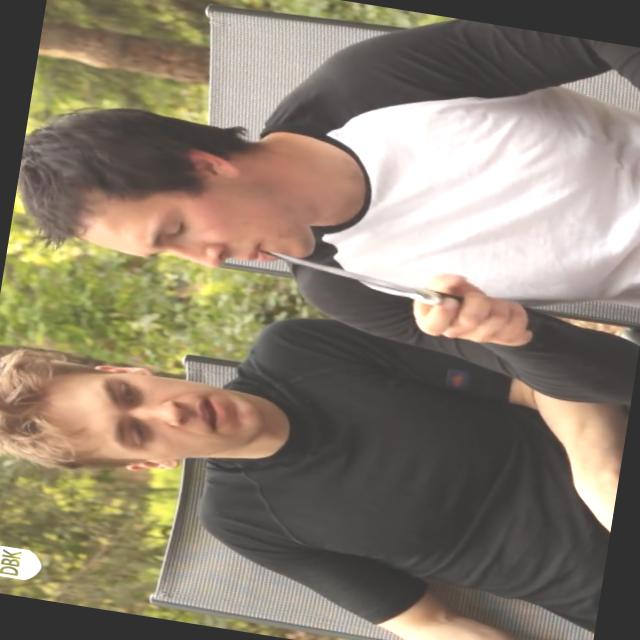knife: (232, 238, 508, 348)
